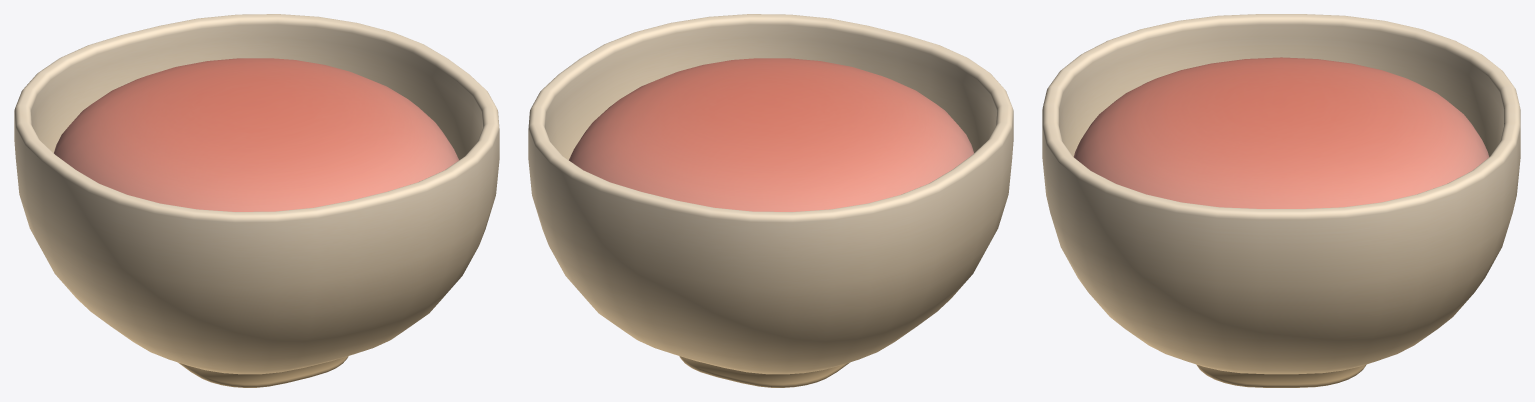
The model's file is Pastry_Cream_Bowl.fbx.
The picture shows the model from 3 angles, left to right: view 1: azimuth 30°, elevation 25°; view 2: azimuth 150°, elevation 25°; view 3: azimuth 270°, elevation 25°; orthographic projection.
Visible parts, largest first — view 1: Pastry_Cream_Bowl; view 2: Pastry_Cream_Bowl; view 3: Pastry_Cream_Bowl.
Part boxes in pixels (box(x1,y1,x2,y2)): Pastry_Cream_Bowl: box(14, 14, 499, 387); Pastry_Cream_Bowl: box(528, 14, 1013, 387); Pastry_Cream_Bowl: box(1042, 14, 1520, 387).
Size of the model in its own units: 32.71 by 18.93 by 32.71.
